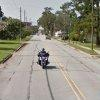Motorcycle: (31, 44, 56, 78)
